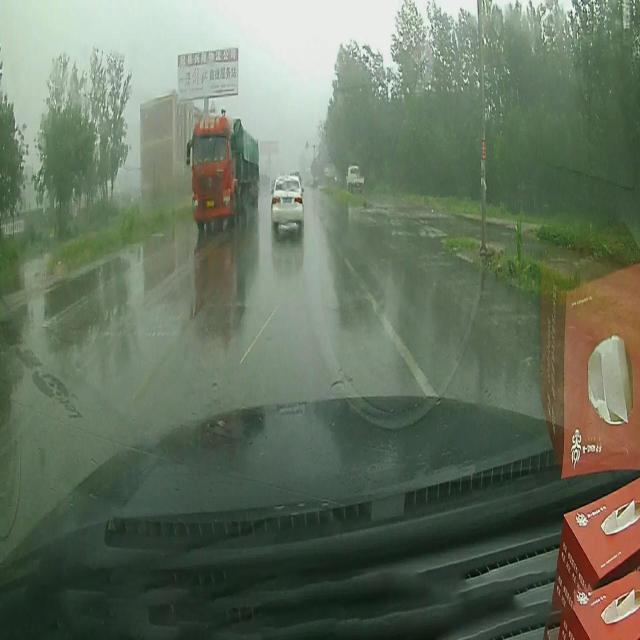car: (271, 174, 302, 228)
